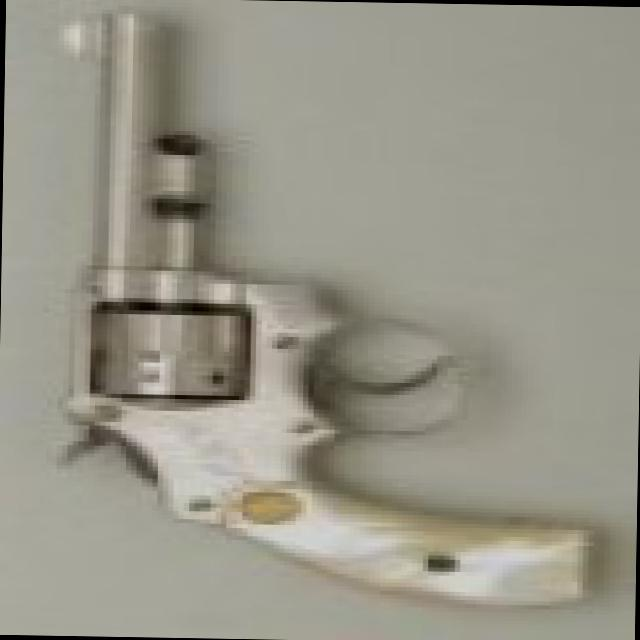handgun: (38, 19, 598, 609)
